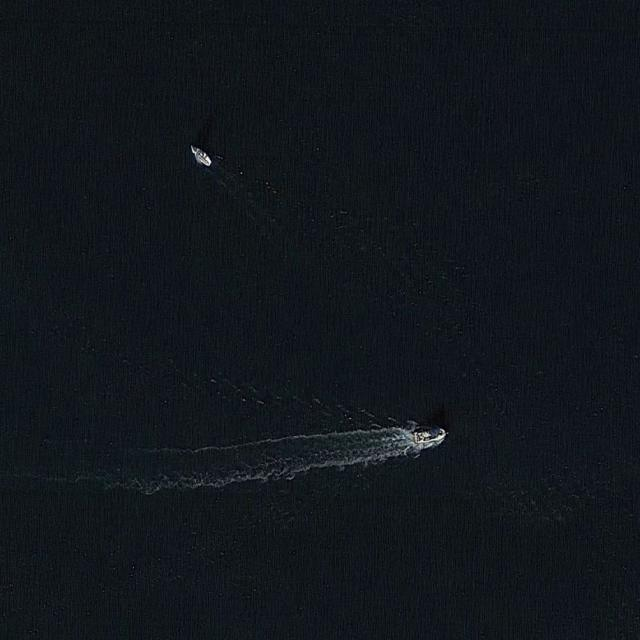ship: (409, 418, 454, 451), (184, 140, 218, 173)
